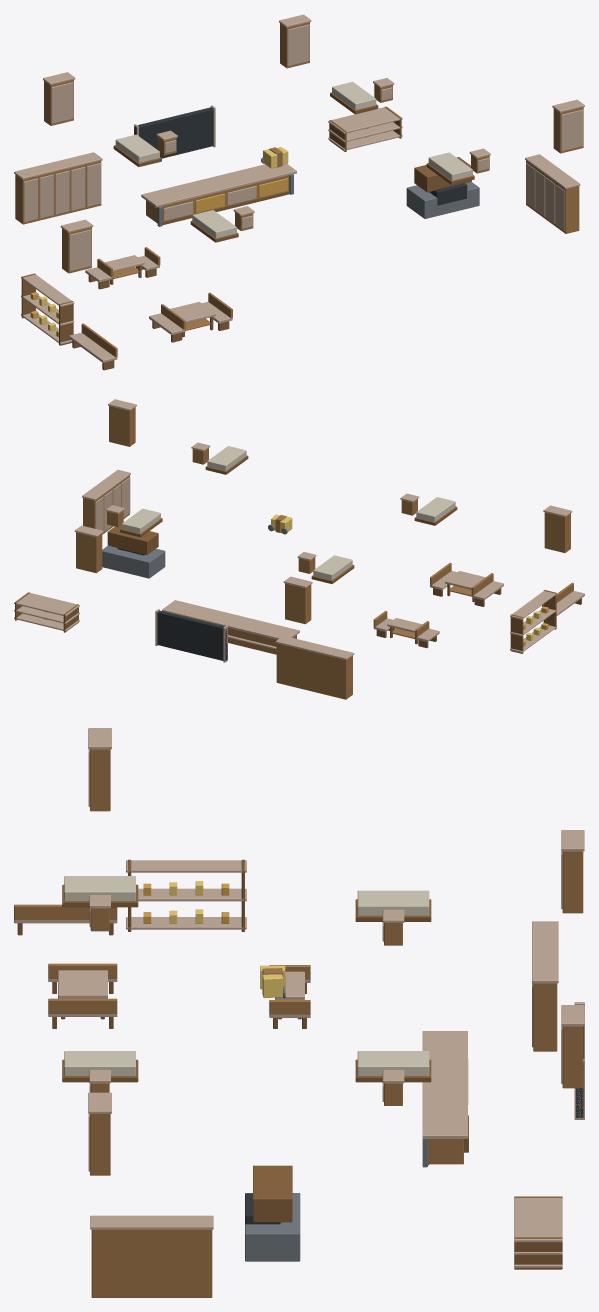
File: lanternrest_road_inn.lod1.glb
3 views of the same model, one above another, from view 1: azimuth 30°, elevation 25°; view 2: azimuth 150°, elevation 25°; view 3: azimuth 270°, elevation 25° (orthographic). The views are drawn at different scales.
Bounding box in the file's own units: 26.28 × 6.1 × 16.55.
